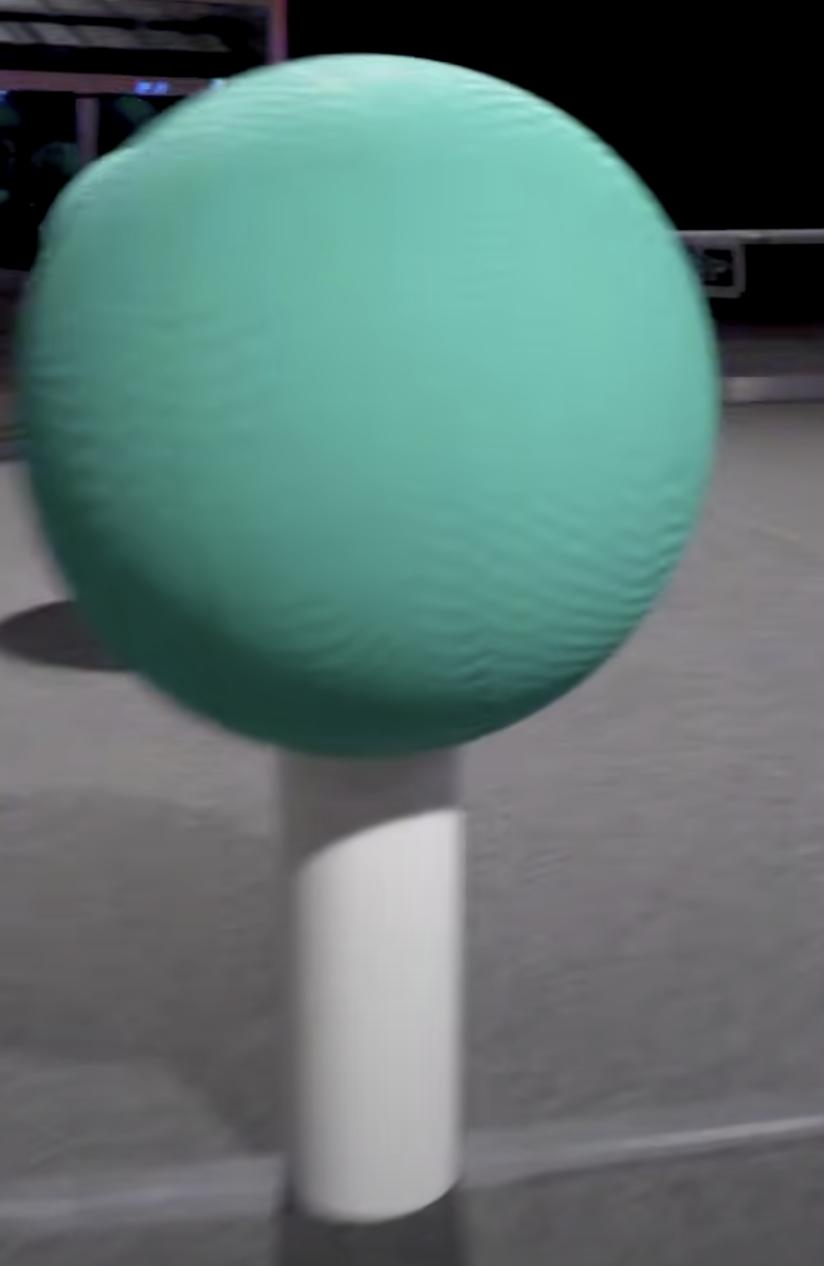algae: (14, 56, 718, 751)
coral: (283, 751, 470, 1226)
